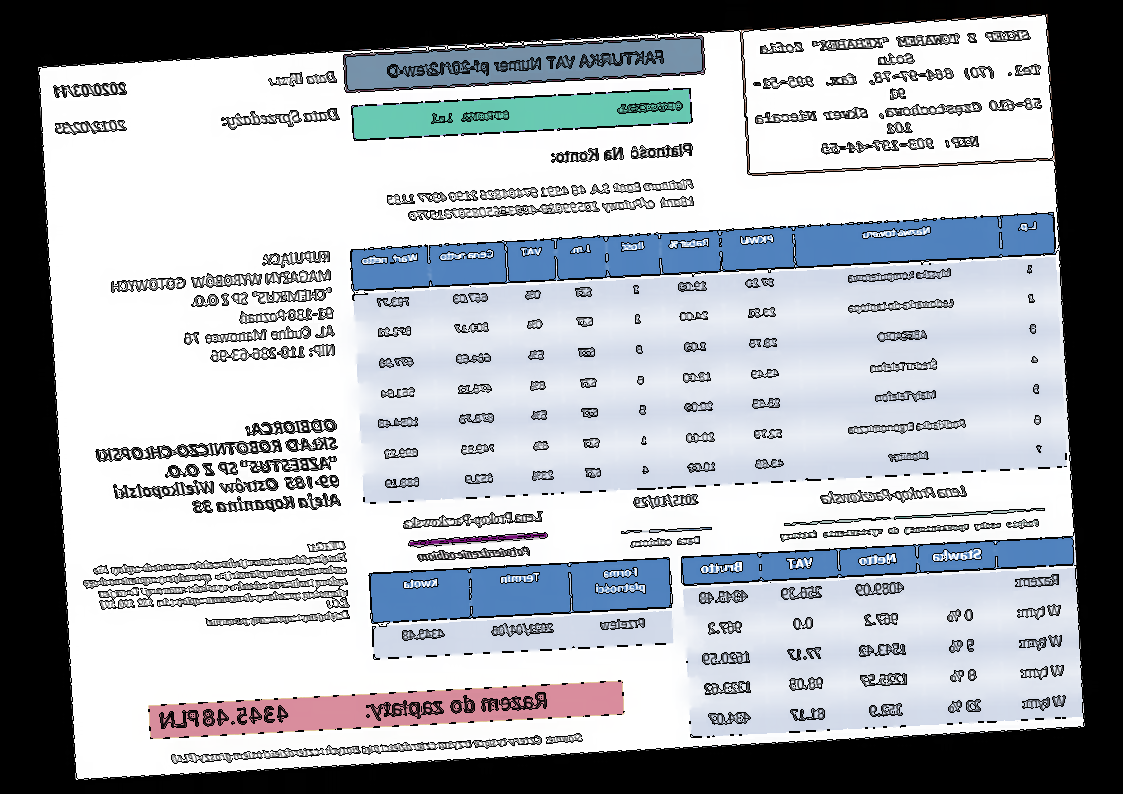Table: (349, 212, 1069, 506), (679, 535, 1084, 740), (367, 556, 675, 660)
TextBox: (748, 27, 1049, 159), (107, 246, 338, 370), (79, 538, 352, 637), (93, 416, 343, 522), (158, 689, 549, 733), (384, 175, 698, 225), (169, 730, 584, 766), (383, 45, 667, 83), (427, 98, 684, 126), (778, 517, 1042, 542), (818, 482, 969, 508), (548, 140, 695, 166), (403, 507, 546, 531), (218, 106, 341, 131), (417, 543, 532, 563), (52, 80, 128, 100), (267, 68, 338, 89), (54, 117, 128, 137), (632, 491, 700, 511), (630, 533, 702, 550)
